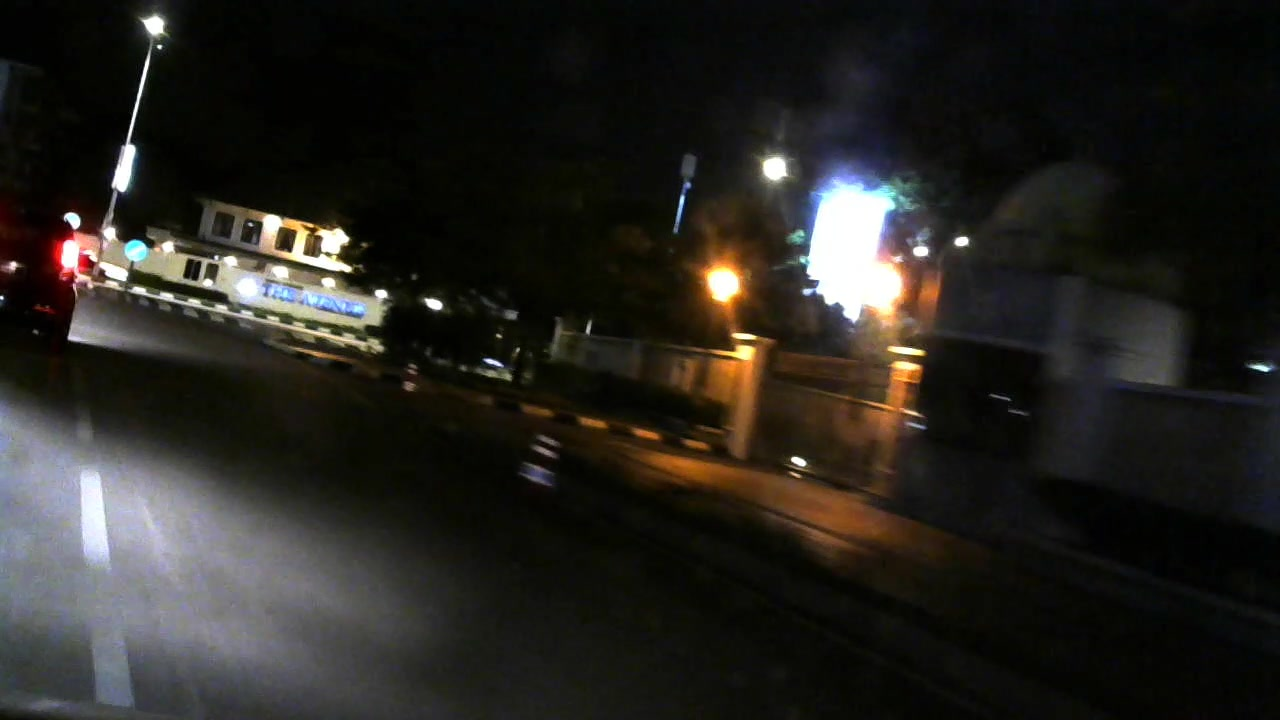Car: (1, 210, 93, 352)
